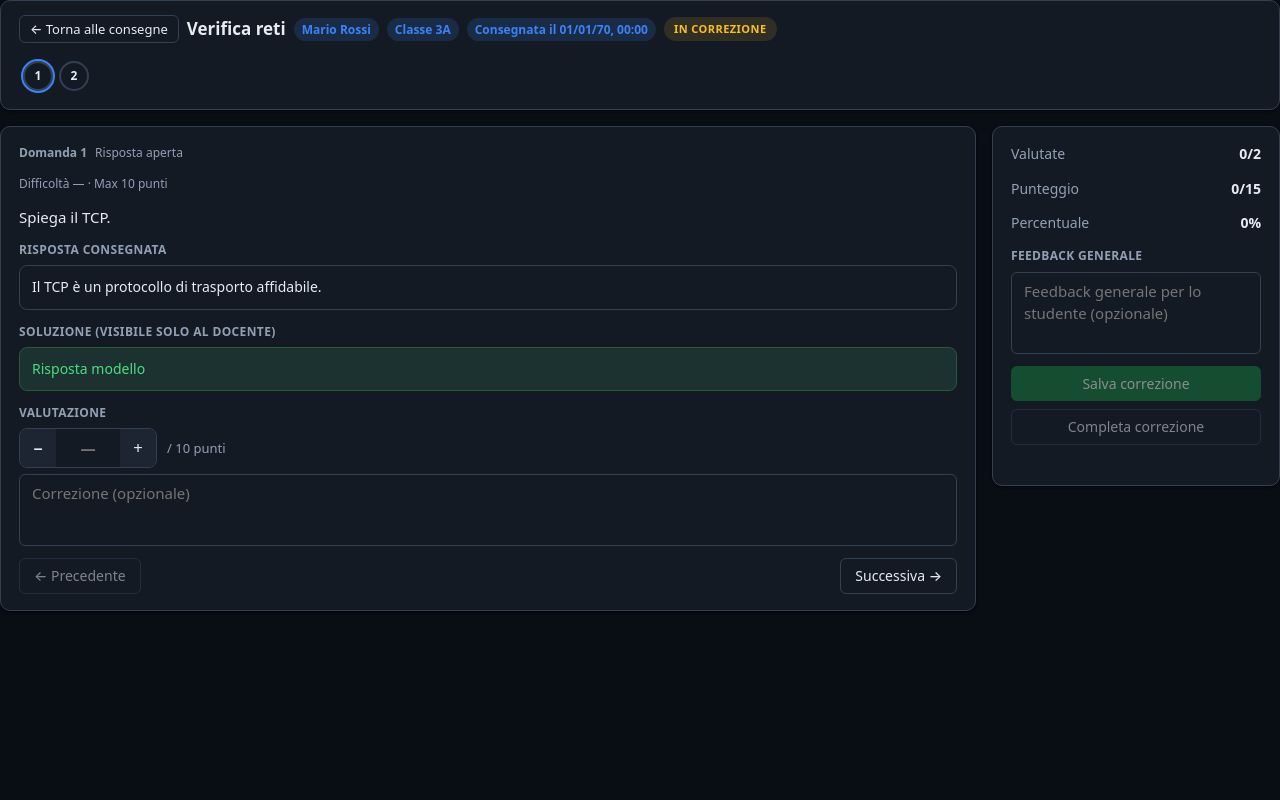
Test: CorrectionWorkspace — scoring input › the + stepper increments the score by a quarter point
Expected: the text "Spiega il TCP." is shown, [19,207,111,227]
Click the button named "Aumenta di 0.25 il punteggio della domanda 1" at (138, 448), box [120,429,156,467]
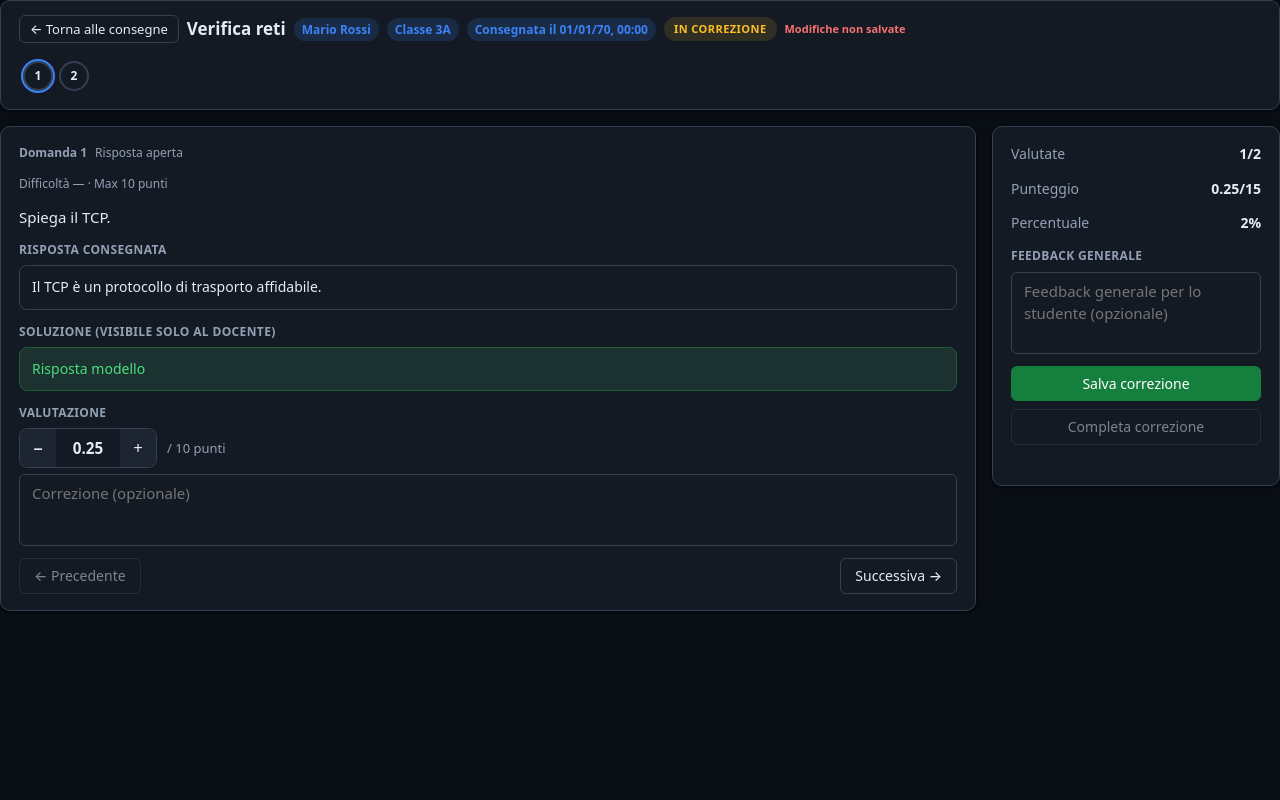
Click the button named "Aumenta di 0.25 il punteggio della domanda 1" at (138, 448), box [120,429,156,467]
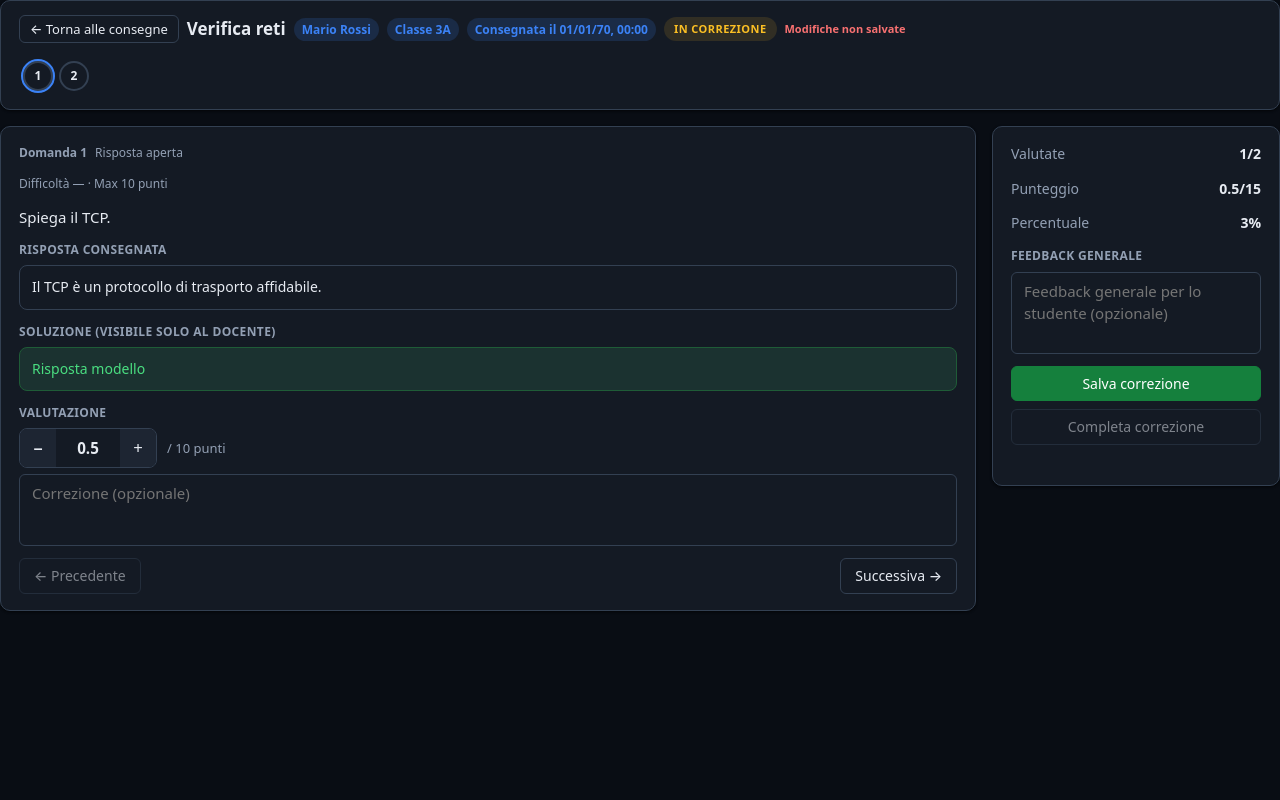
Expected: the field named "Punteggio per la domanda 1" holds "0.5", [56,429,120,467]
